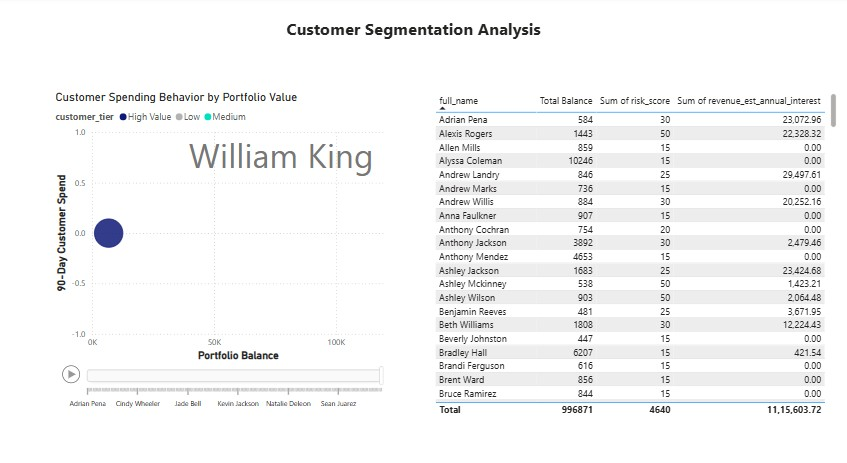

Layout of this report page (visuals, bound fields, positions):
{"tool":"powerbi","page":{"name":"Customer Segmentation","canvas":[1280,720],"ordinal":1},"visuals":[{"type":"scatterChart","title":"Customer Spending Behavior by Portfolio Value","fields":{"X":["pbi_customer_master.Total Balance"],"Y":["Sum(pbi_customer_master.tx_spend_last_90d)"],"Size":["CountNonNull(pbi_customer_master.revenue_est_annual_interest)"],"Series":["pbi_customer_master.customer_tier"],"Play":["pbi_customer_master.full_name"],"Category":["pbi_customer_master.full_name"]},"box":[97.3,135.7,505.8,482.2],"z":0},{"type":"tableEx","fields":{"Values":["pbi_customer_master.full_name","pbi_customer_master.Total Balance","Sum(pbi_customer_master.risk_score)","Sum(pbi_customer_master.revenue_est_annual_interest)"]},"box":[654.7,135.7,597.2,482.2],"z":1000},{"type":"textbox","box":[436.5,25.1,436.5,56],"z":2000}]}

Visuals, with their boxes in screenshot pixels (x1, y1, x2, y2), scaled from the page's 1280x720 canvas onto the 847x463 screenshot:
"Customer Spending Behavior by Portfolio Value" scatterChart: crop(64, 87, 399, 397)
tableEx - pbi_customer_master.full_name x pbi_customer_master.Total Balance: crop(433, 87, 828, 397)
textbox: crop(289, 16, 578, 52)
